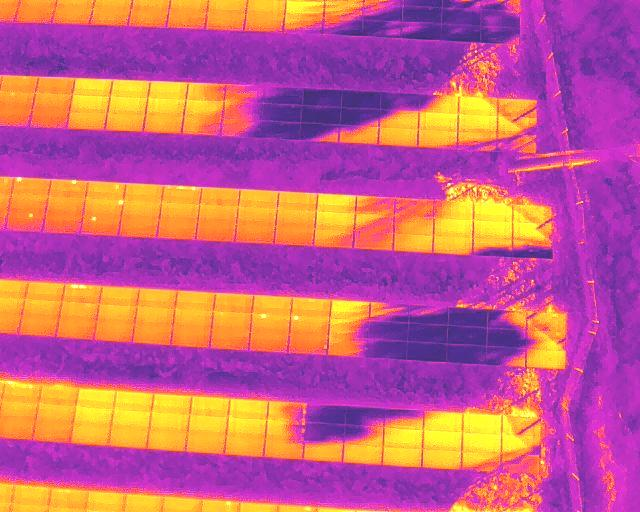Cell: (80, 215, 121, 235), (251, 313, 290, 333), (5, 210, 44, 230), (291, 315, 329, 335), (83, 197, 124, 215), (86, 180, 126, 197), (11, 177, 50, 194), (48, 179, 86, 195), (0, 92, 34, 109)
Cell-Multi: (3, 384, 40, 403), (162, 186, 202, 202)
No-Anomaly: (246, 8, 285, 31), (168, 6, 206, 29), (237, 221, 275, 244), (34, 420, 73, 442), (462, 432, 502, 453), (43, 212, 83, 233), (157, 217, 197, 238), (149, 429, 187, 451), (198, 219, 236, 241), (118, 215, 159, 235), (383, 446, 422, 467), (72, 423, 111, 444), (206, 8, 245, 29), (434, 235, 474, 255), (425, 410, 463, 431), (464, 413, 502, 434), (110, 427, 148, 448), (130, 6, 168, 27), (423, 430, 462, 450), (383, 428, 422, 448), (343, 445, 382, 465), (52, 4, 91, 24), (172, 327, 211, 347), (91, 5, 130, 25), (459, 95, 498, 115), (330, 300, 369, 320), (229, 399, 266, 420), (17, 0, 54, 21), (191, 397, 229, 417), (303, 443, 343, 462), (422, 450, 462, 469), (211, 330, 249, 350), (57, 320, 95, 340), (134, 326, 172, 346), (434, 218, 474, 237), (176, 291, 214, 311), (228, 418, 267, 437), (226, 438, 265, 457), (250, 333, 289, 352), (418, 130, 457, 149), (289, 336, 328, 355), (275, 226, 314, 245), (474, 203, 513, 222), (153, 395, 190, 415), (187, 433, 224, 453), (75, 405, 112, 425), (77, 390, 115, 409), (115, 393, 153, 412), (214, 294, 252, 313), (138, 289, 176, 308), (110, 80, 150, 98), (21, 318, 57, 338), (143, 115, 183, 133), (49, 489, 86, 508), (101, 287, 138, 306), (112, 409, 151, 427), (106, 113, 145, 131), (379, 129, 418, 147), (96, 324, 135, 342), (474, 221, 513, 239), (394, 235, 433, 253), (253, 294, 292, 312), (0, 419, 35, 439), (528, 350, 566, 368), (136, 308, 174, 326), (317, 194, 355, 212), (201, 188, 239, 206), (67, 113, 107, 130), (28, 111, 68, 128), (146, 99, 186, 116), (174, 310, 211, 328), (61, 302, 98, 320), (99, 306, 136, 324), (27, 282, 62, 301), (265, 442, 304, 459), (32, 93, 71, 110), (292, 298, 331, 315), (279, 192, 318, 209), (316, 213, 355, 230), (9, 195, 48, 212), (151, 413, 189, 430), (41, 387, 79, 404), (187, 83, 225, 100), (123, 494, 161, 511), (212, 313, 250, 330), (36, 404, 76, 420), (69, 96, 109, 112), (108, 97, 148, 113), (13, 485, 48, 503), (87, 493, 122, 511), (23, 300, 60, 317), (148, 82, 187, 98), (73, 79, 112, 95), (35, 78, 74, 94), (458, 115, 497, 131), (419, 114, 458, 130), (239, 190, 278, 206), (46, 196, 85, 212), (124, 183, 163, 199), (200, 205, 238, 221), (277, 210, 315, 226), (238, 206, 276, 222), (0, 402, 37, 418), (125, 199, 162, 215), (190, 418, 228, 433), (184, 101, 224, 115), (160, 202, 200, 216), (0, 77, 37, 92), (0, 109, 29, 126)
Shadowing: (328, 336, 368, 358), (329, 318, 369, 340), (527, 311, 567, 332), (497, 132, 536, 153), (285, 12, 324, 33), (315, 227, 354, 248), (369, 302, 408, 323), (368, 338, 408, 358), (384, 409, 424, 429), (266, 421, 306, 441), (182, 115, 222, 135), (408, 323, 447, 343), (346, 425, 384, 445), (448, 345, 486, 365), (346, 406, 384, 426), (487, 310, 527, 329), (434, 201, 474, 220), (267, 402, 306, 421), (307, 404, 346, 423), (503, 416, 542, 435), (305, 424, 344, 443), (502, 435, 541, 454), (448, 308, 487, 327), (409, 304, 448, 323), (325, 15, 363, 34), (355, 230, 393, 249), (395, 198, 433, 217), (486, 347, 526, 365), (407, 342, 447, 360), (260, 122, 300, 140), (339, 127, 379, 145), (368, 321, 408, 339), (441, 24, 481, 42), (363, 2, 403, 20), (514, 205, 554, 223), (474, 239, 514, 257), (502, 454, 539, 473), (527, 332, 566, 350), (403, 4, 442, 22), (448, 327, 487, 345), (302, 89, 341, 107), (395, 216, 434, 234), (363, 19, 402, 37), (222, 120, 263, 137), (513, 240, 554, 257), (513, 224, 554, 241), (341, 90, 379, 108), (482, 8, 520, 26), (403, 22, 441, 40), (487, 329, 527, 346), (299, 125, 339, 142), (498, 98, 538, 115), (419, 96, 459, 113), (462, 452, 501, 469), (340, 109, 379, 126), (458, 132, 497, 149), (442, 7, 481, 24), (380, 111, 419, 128), (380, 94, 419, 111), (223, 102, 262, 119), (480, 27, 519, 44), (301, 108, 340, 125), (263, 88, 301, 105), (356, 214, 394, 231), (356, 197, 394, 214), (498, 115, 538, 131), (262, 105, 301, 121), (225, 85, 263, 101)
Unclassified: (63, 284, 100, 304)
